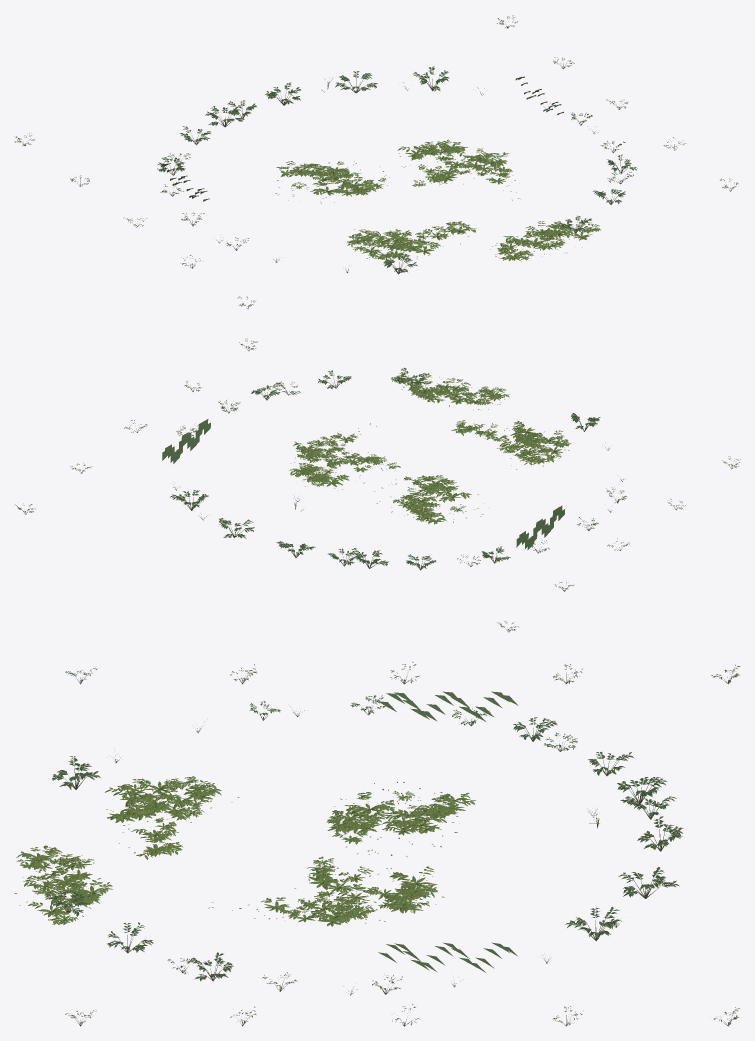
File: hengwuyuan.glb
3 renders of one model, top to bottom at view 1: azimuth 30°, elevation 25°; view 2: azimuth 150°, elevation 25°; view 3: azimuth 270°, elevation 25°, orthographic. The views are drawn at different scales.
Parts seen in each view (by area): view 1: Mobile_hengwuyuan_botanical_bamboo, Mobile_hengwuyuan_plants; view 2: Mobile_hengwuyuan_botanical_bamboo, Mobile_hengwuyuan_plants; view 3: Mobile_hengwuyuan_botanical_bamboo, Mobile_hengwuyuan_plants.
Boxes of the visible parts, x1,y1,x2,y2 form: Mobile_hengwuyuan_botanical_bamboo: (276, 139, 600, 261); Mobile_hengwuyuan_plants: (14, 15, 738, 308); Mobile_hengwuyuan_botanical_bamboo: (289, 373, 571, 524); Mobile_hengwuyuan_plants: (14, 338, 740, 632); Mobile_hengwuyuan_botanical_bamboo: (16, 776, 475, 926); Mobile_hengwuyuan_plants: (44, 661, 739, 1026).
Size of the model in its own units: 31.32 by 2.41 by 26.94.
Materials: 4 (3 with a texture image).
